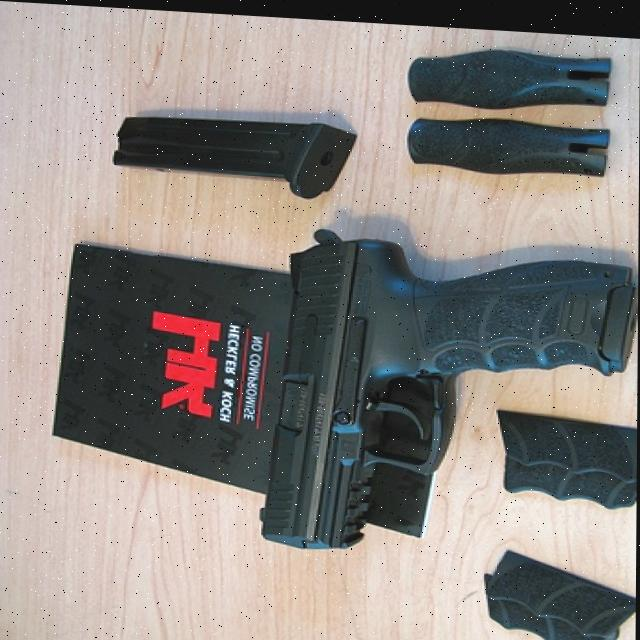pistol: (258, 219, 638, 559)
